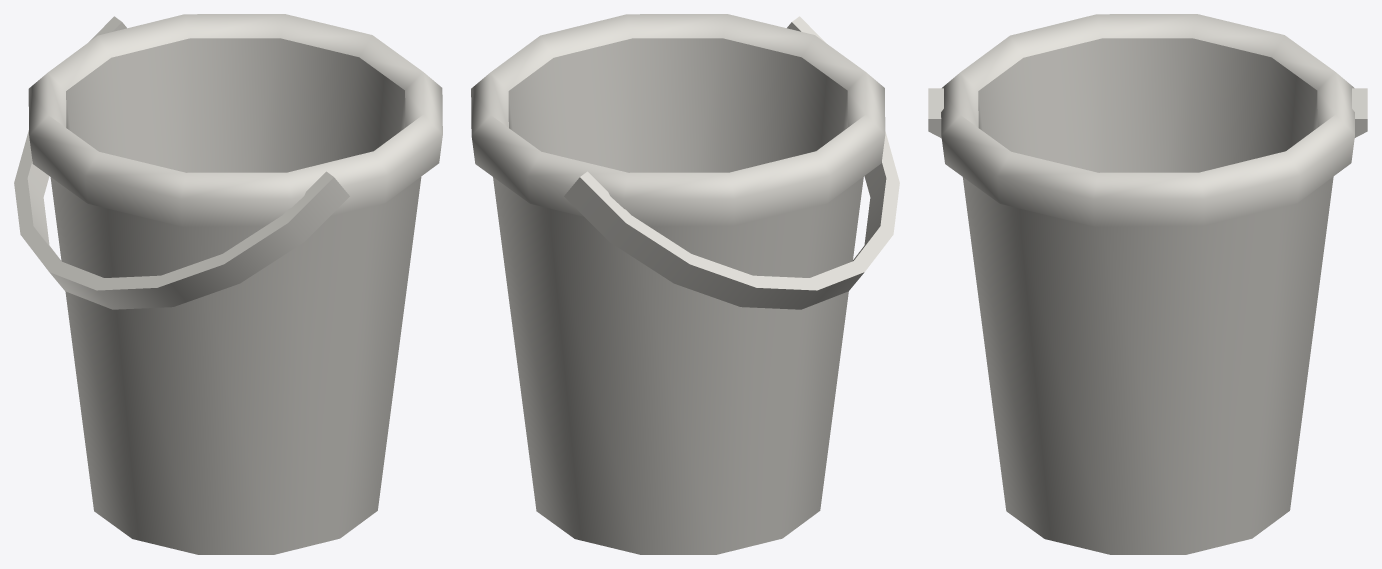
File: bucket.glb
3 views of the same model, side by side, from view 1: azimuth 30°, elevation 25°; view 2: azimuth 150°, elevation 25°; view 3: azimuth 270°, elevation 25° (orthographic).
Visible parts, largest first — view 1: node_id34, node_id36; view 2: node_id34, node_id36; view 3: node_id34, node_id36.
Part boxes in pixels (<box>): node_id34: <box>28,14,442,554</box>; node_id36: <box>14,16,349,309</box>; node_id34: <box>471,14,885,554</box>; node_id36: <box>564,16,899,309</box>; node_id34: <box>941,14,1354,554</box>; node_id36: <box>928,88,1367,138</box>.
Bounding box in the file's own units: 0.4884 × 0.512 × 0.5077.
Materials: 2 (2 with a texture image).
